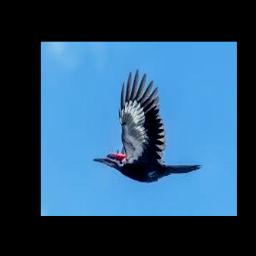Woodpecker: (93, 69, 202, 182)
